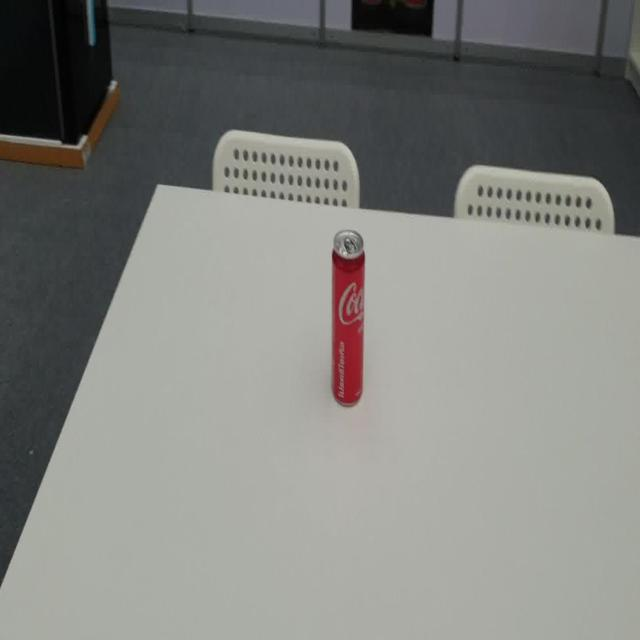coca-cola: (329, 226, 366, 412)
